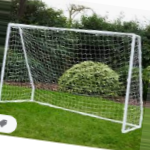goals: (1, 21, 148, 132)
